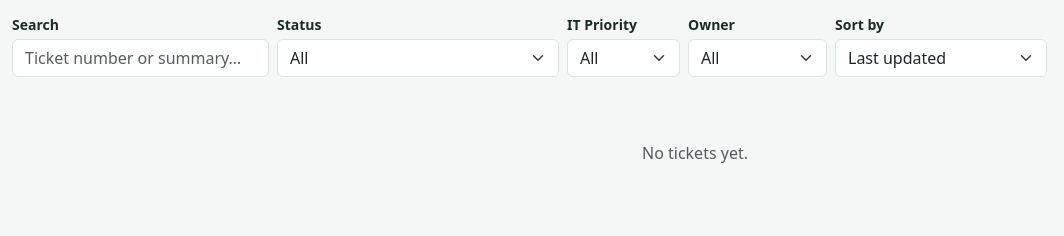
Test: StaffTicketQueue › UI-12 shows the no-results state, distinct from empty, when filters match nothing
Expected: the text "No tickets yet." is shown, [642,142,748,164]
Type "nothing matches this" into the field labelled "Search" at coordinates (140, 58), box [12,39,269,77]
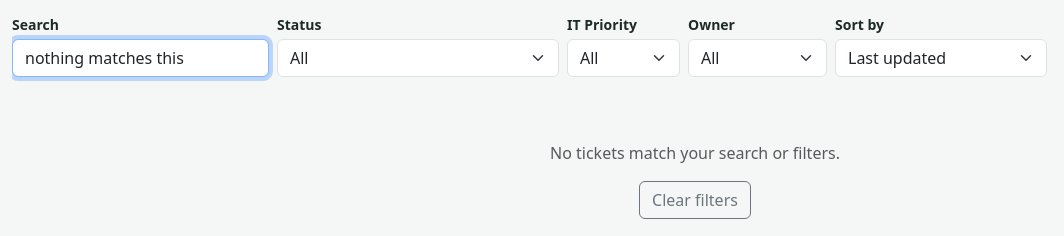
Now the button "Clear filters" is shown, box [639,181,751,219]
Now the text "No tickets yet" is gone
